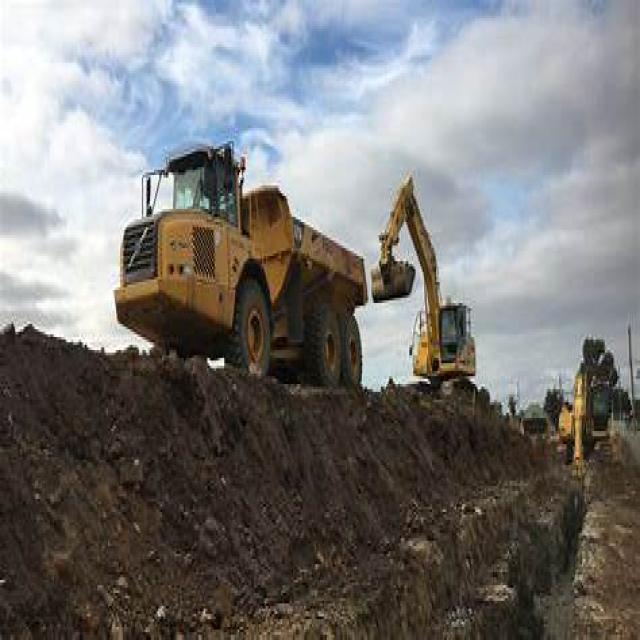dump_truck: (108, 107, 383, 413)
excavator: (376, 165, 506, 408)
